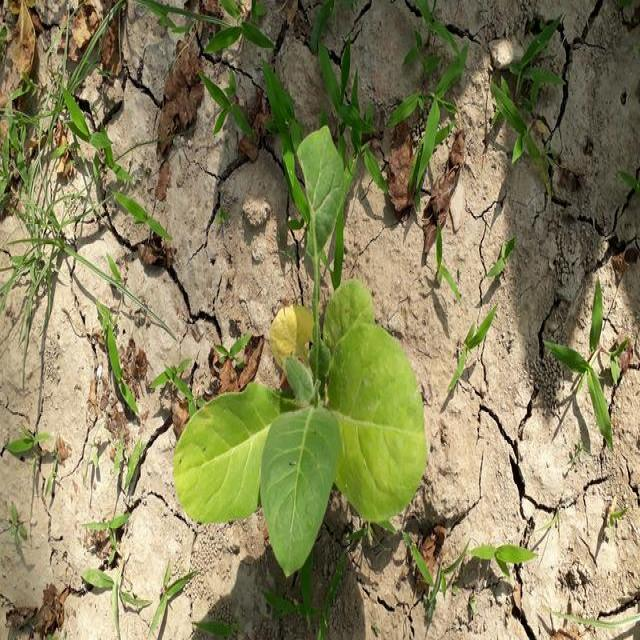crop: (180, 128, 414, 566)
